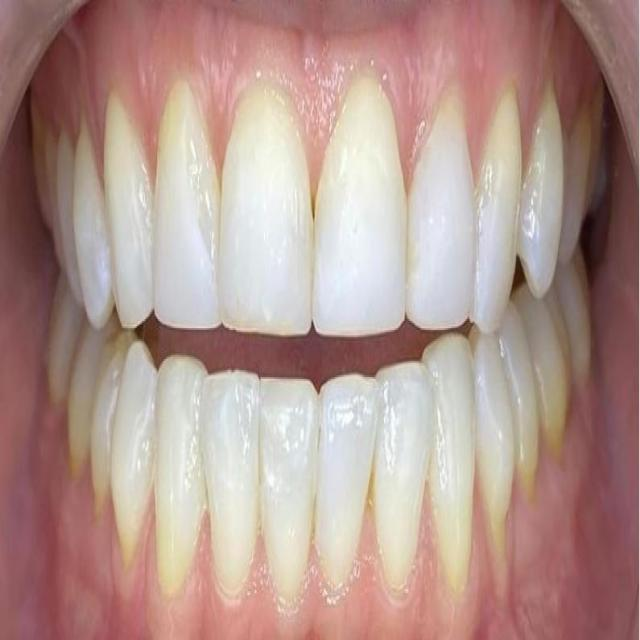1st Molar: (512, 287, 570, 452), (563, 82, 604, 256), (68, 326, 116, 470), (31, 129, 53, 238)
1st Premolar: (111, 343, 157, 560), (518, 87, 564, 301), (470, 331, 518, 533), (74, 114, 113, 326)
2nd Molar: (555, 256, 594, 386), (46, 279, 83, 404)
2nd Premolar: (499, 310, 541, 494), (91, 331, 131, 509), (49, 132, 80, 296)
Canine: (423, 335, 474, 591), (154, 357, 206, 602), (472, 91, 522, 335), (105, 94, 154, 328)
Central Incisor: (218, 77, 314, 335), (313, 78, 406, 336), (318, 374, 381, 602), (259, 379, 319, 604)
Lateral Incisor: (405, 87, 476, 332), (154, 83, 220, 328), (198, 372, 261, 602), (373, 361, 433, 598)
